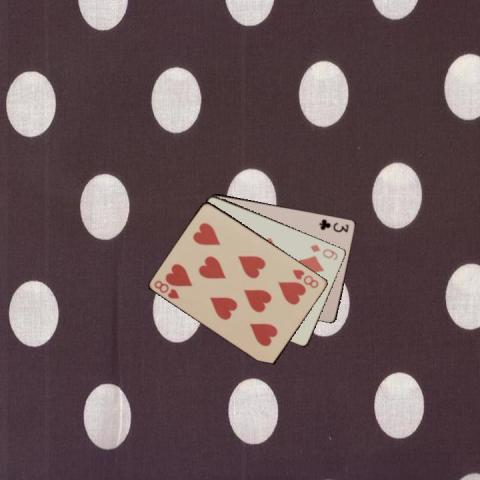3c: (316, 216, 350, 233)
6d: (308, 241, 340, 262)
8h: (289, 266, 320, 289), (152, 277, 182, 300)
